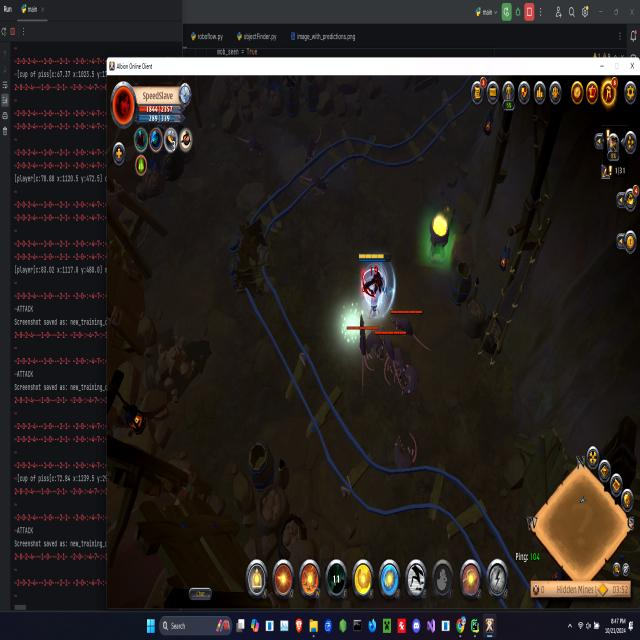fiber: (426, 204, 454, 277)
ore: (389, 300, 435, 356), (345, 313, 379, 387), (374, 322, 406, 396), (229, 130, 270, 160), (300, 123, 325, 170), (297, 170, 335, 198)
red: (356, 249, 396, 318)
